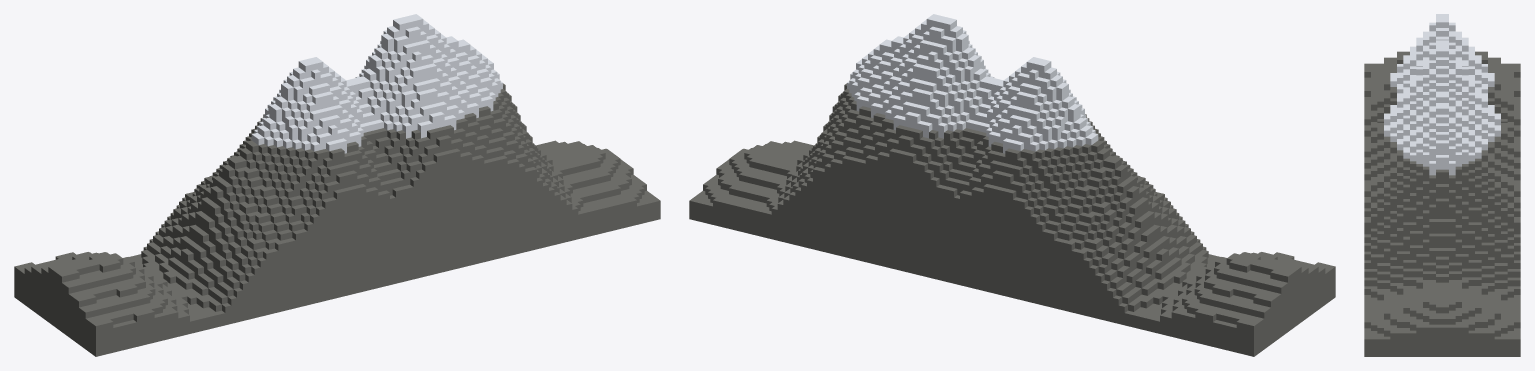
File: ridge_c.obj
3 renders of one model, left to right at view 1: azimuth 30°, elevation 25°; view 2: azimuth 150°, elevation 25°; view 3: azimuth 270°, elevation 25°, orthographic. The views are drawn at different scales.
Bounding box in the file's own units: 9.6 × 3.6 × 2.4.
Materials: 1 (1 with a texture image).
